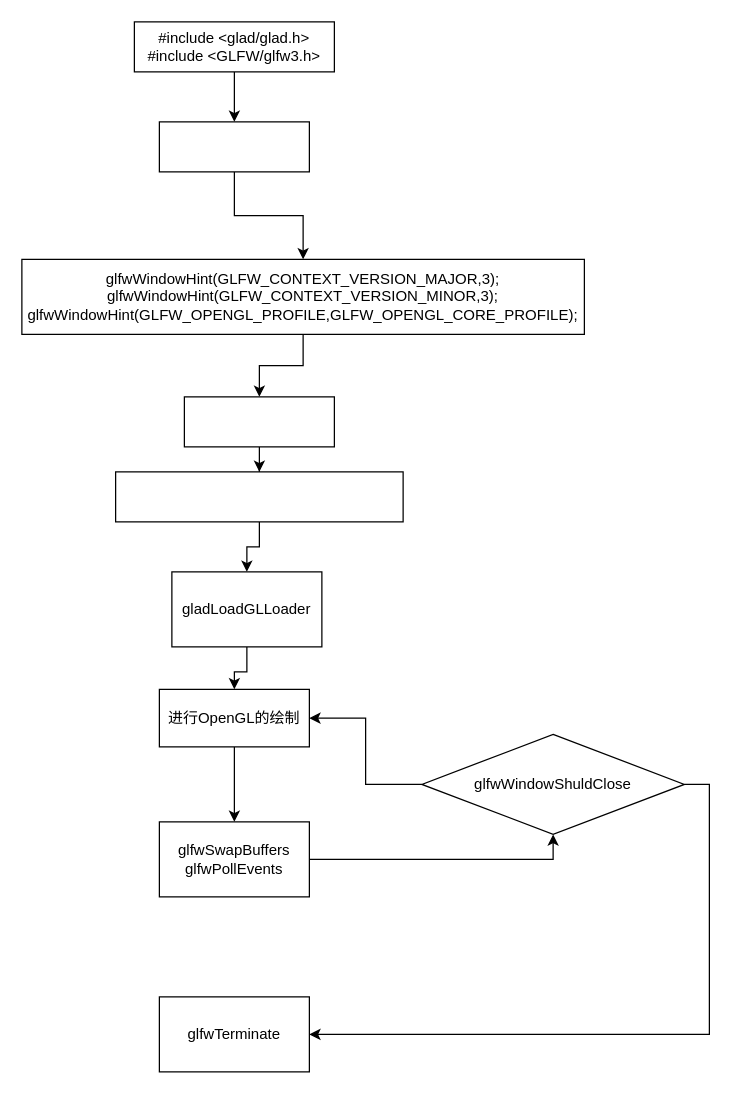
The diagram is 741 pixels wide and 1094 high, and some of its shapes have lost their labels. Here are the shapes that lost their labels. From the top down, the centre of each, then its label:
At (x=233, y=146): "glfwInit();".
At (x=258, y=421): "glfwCreateWindow".
At (x=258, y=496): "glfwMakeContextCurrent".
